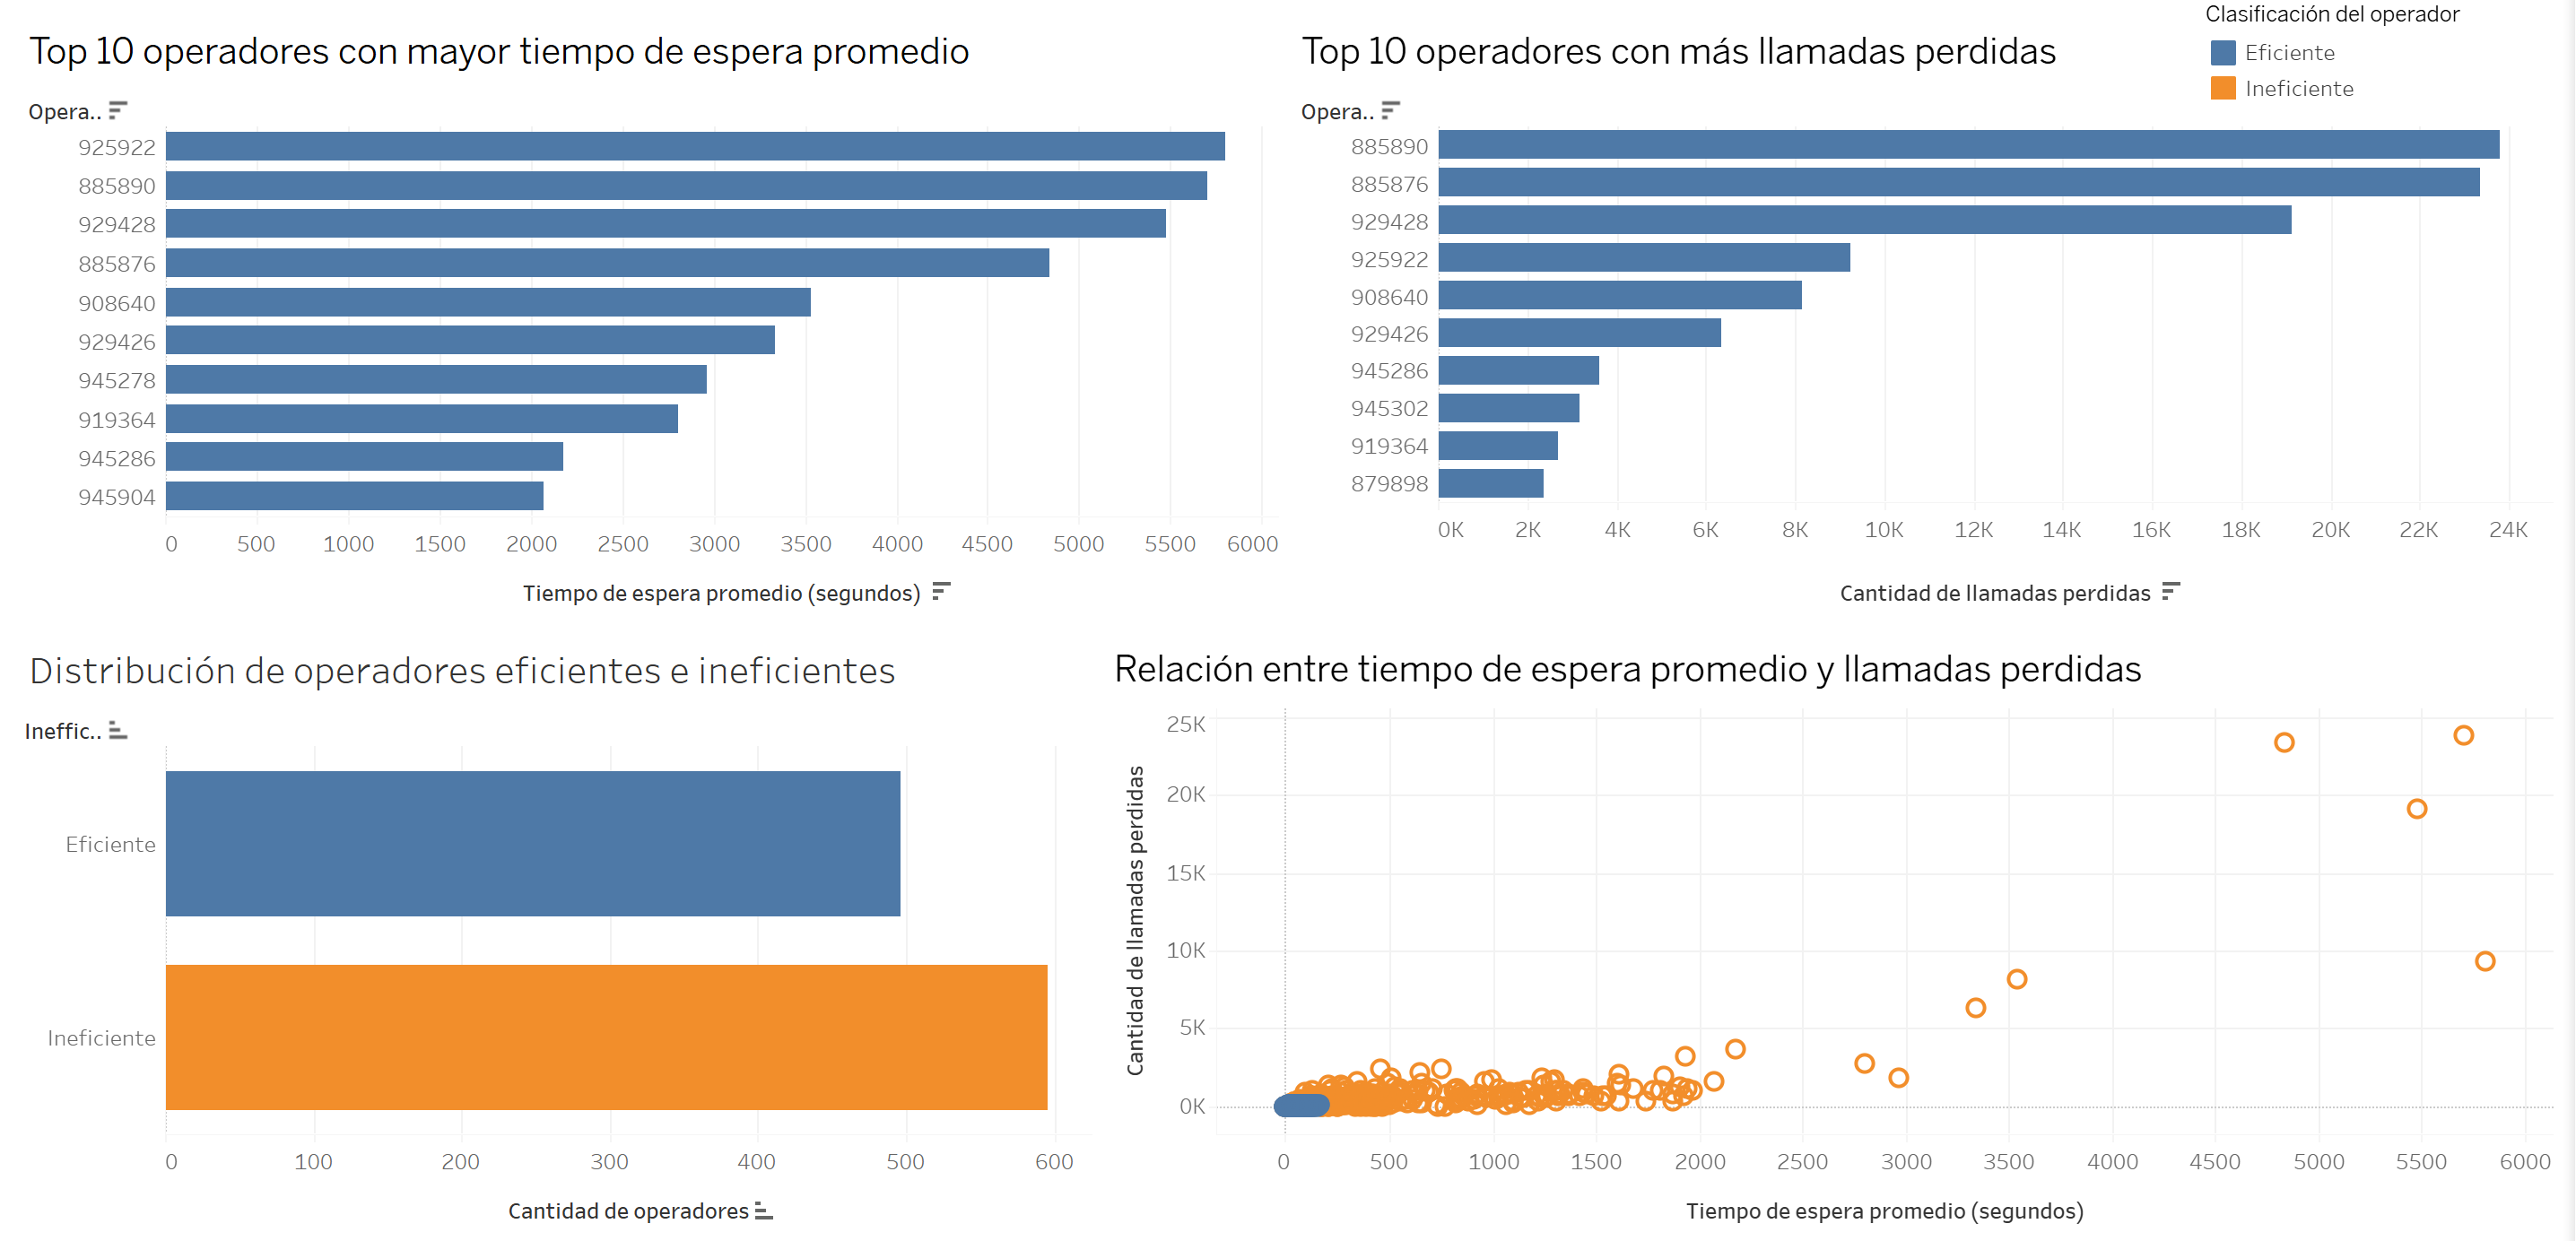

This screenshot's page, from the dashboard's own definition file:
{"tool":"tableau","page":{"name":"Desempeño de operadores","canvas":[1000,1000],"units":"permille","ordinal":0},"visuals":[{"type":"legend","title":"Operadores eficientes vs ineficientes","param":"[federated.1dz5ebr0q7h6pg1adr5c60jnb1n7].[none:inefficient_operator:nk]","box":[856.5,6.1,114,77.2]},{"type":"worksheet","title":"Top Tiempo Espera","mark":"Automatic","rows":["operator_id"],"cols":["avg_waiting_time"],"box":[6.2,9.8,493.8,490.2]},{"type":"worksheet","title":"Top LLamadas Perdidas","mark":"Automatic","rows":["operator_id"],"cols":["missed_calls"],"box":[500,9.8,493.8,490.2]},{"type":"worksheet","title":"Operadores eficientes vs ineficientes","mark":"Automatic","rows":["inefficient_operator"],"cols":["operator_id"],"box":[6.2,500,421.2,490.2]},{"type":"worksheet","title":"Relación entre tiempo de espera y llamadas perdidas","mark":"Automatic","rows":["missed_calls"],"cols":["avg_waiting_time"],"box":[427.5,500,566.3,490.2]}]}

Visuals, with their boxes on the dashboard's canvas, which has no fixed pixel size, in thousandths of its width and height (x1, y1, x2, y2). These are canvas units, not pixel positions in the 2576x1241 screenshot, which may show the page scaled, cropped or inside an application window:
"Operadores eficientes vs ineficientes" legend: bbox=[856, 6, 970, 83]
"Top Tiempo Espera" worksheet: bbox=[6, 10, 500, 500]
"Top LLamadas Perdidas" worksheet: bbox=[500, 10, 994, 500]
"Operadores eficientes vs ineficientes" worksheet: bbox=[6, 500, 427, 990]
"Relación entre tiempo de espera y llamadas perdidas" worksheet: bbox=[428, 500, 994, 990]
